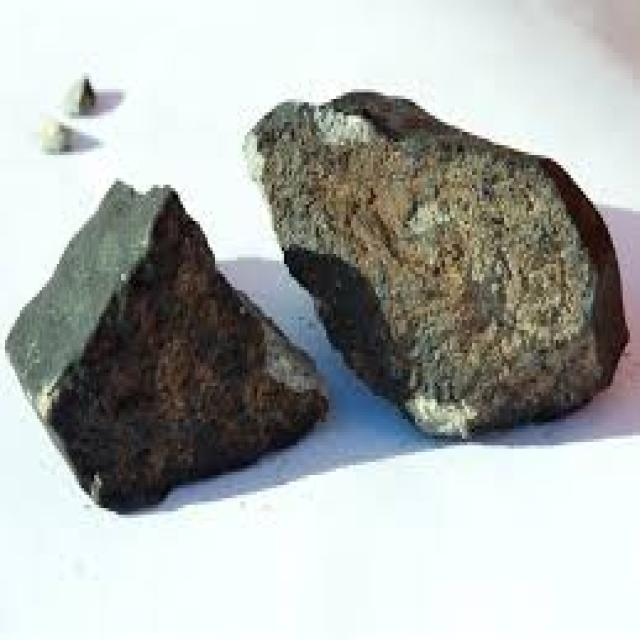Pecahan Agregat: (240, 49, 630, 478), (10, 146, 329, 527)
